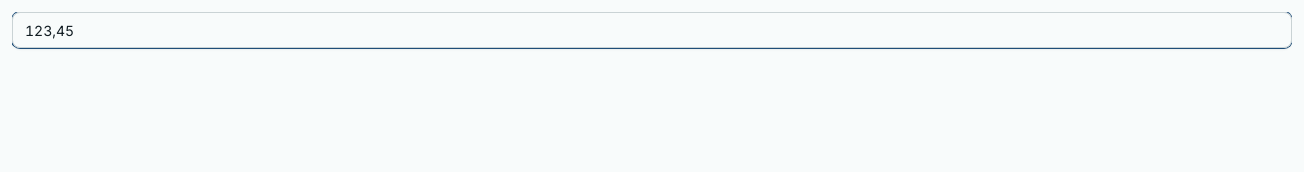
Scenario: CampoDinheiro › mantém o cursor depois do dígito inserido no meio do valor
"9" digitado no começo: o navegador entrega "9123,45" com o cursor depois do 9.
Replace the text in the field named "Valor" with "9123,45": (652, 30) [12, 12, 1292, 48]
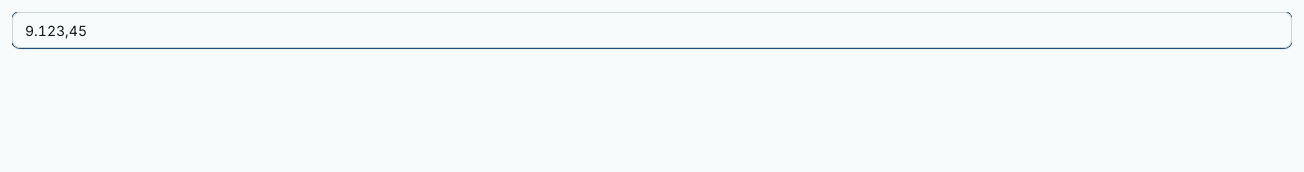
Now the field named "Valor" holds "9.123,45", box [12, 12, 1292, 48]
